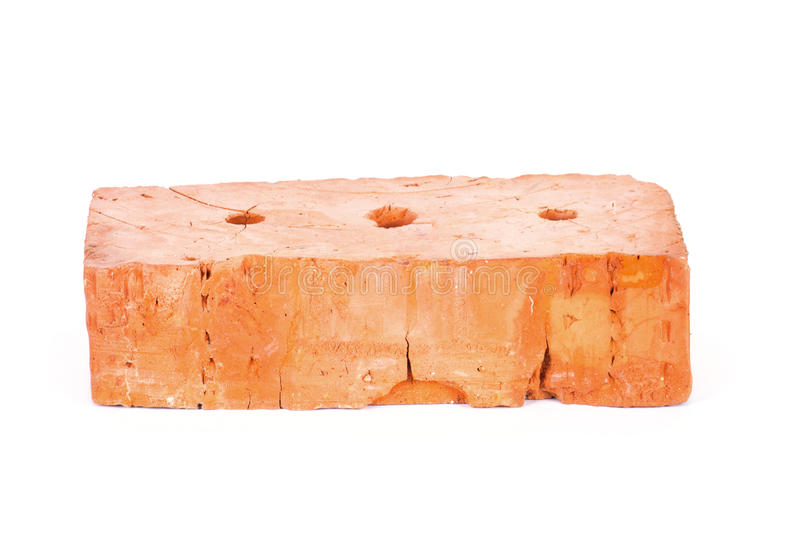brick: (87, 224, 695, 407)
